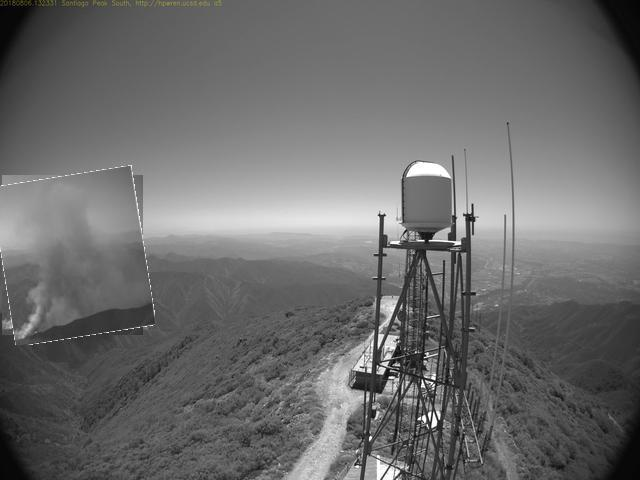smoke: (1, 171, 151, 343)
